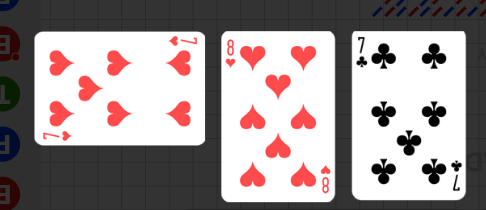7C: (355, 36, 370, 70)
7H: (42, 130, 74, 143), (168, 35, 199, 48)
